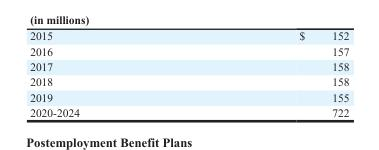table: (29, 29, 348, 118)
table column: (188, 29, 348, 118), (29, 29, 188, 118)
table row: (29, 73, 348, 89), (29, 43, 348, 58), (29, 58, 348, 73), (29, 89, 348, 104), (29, 29, 348, 43), (29, 104, 348, 118)
